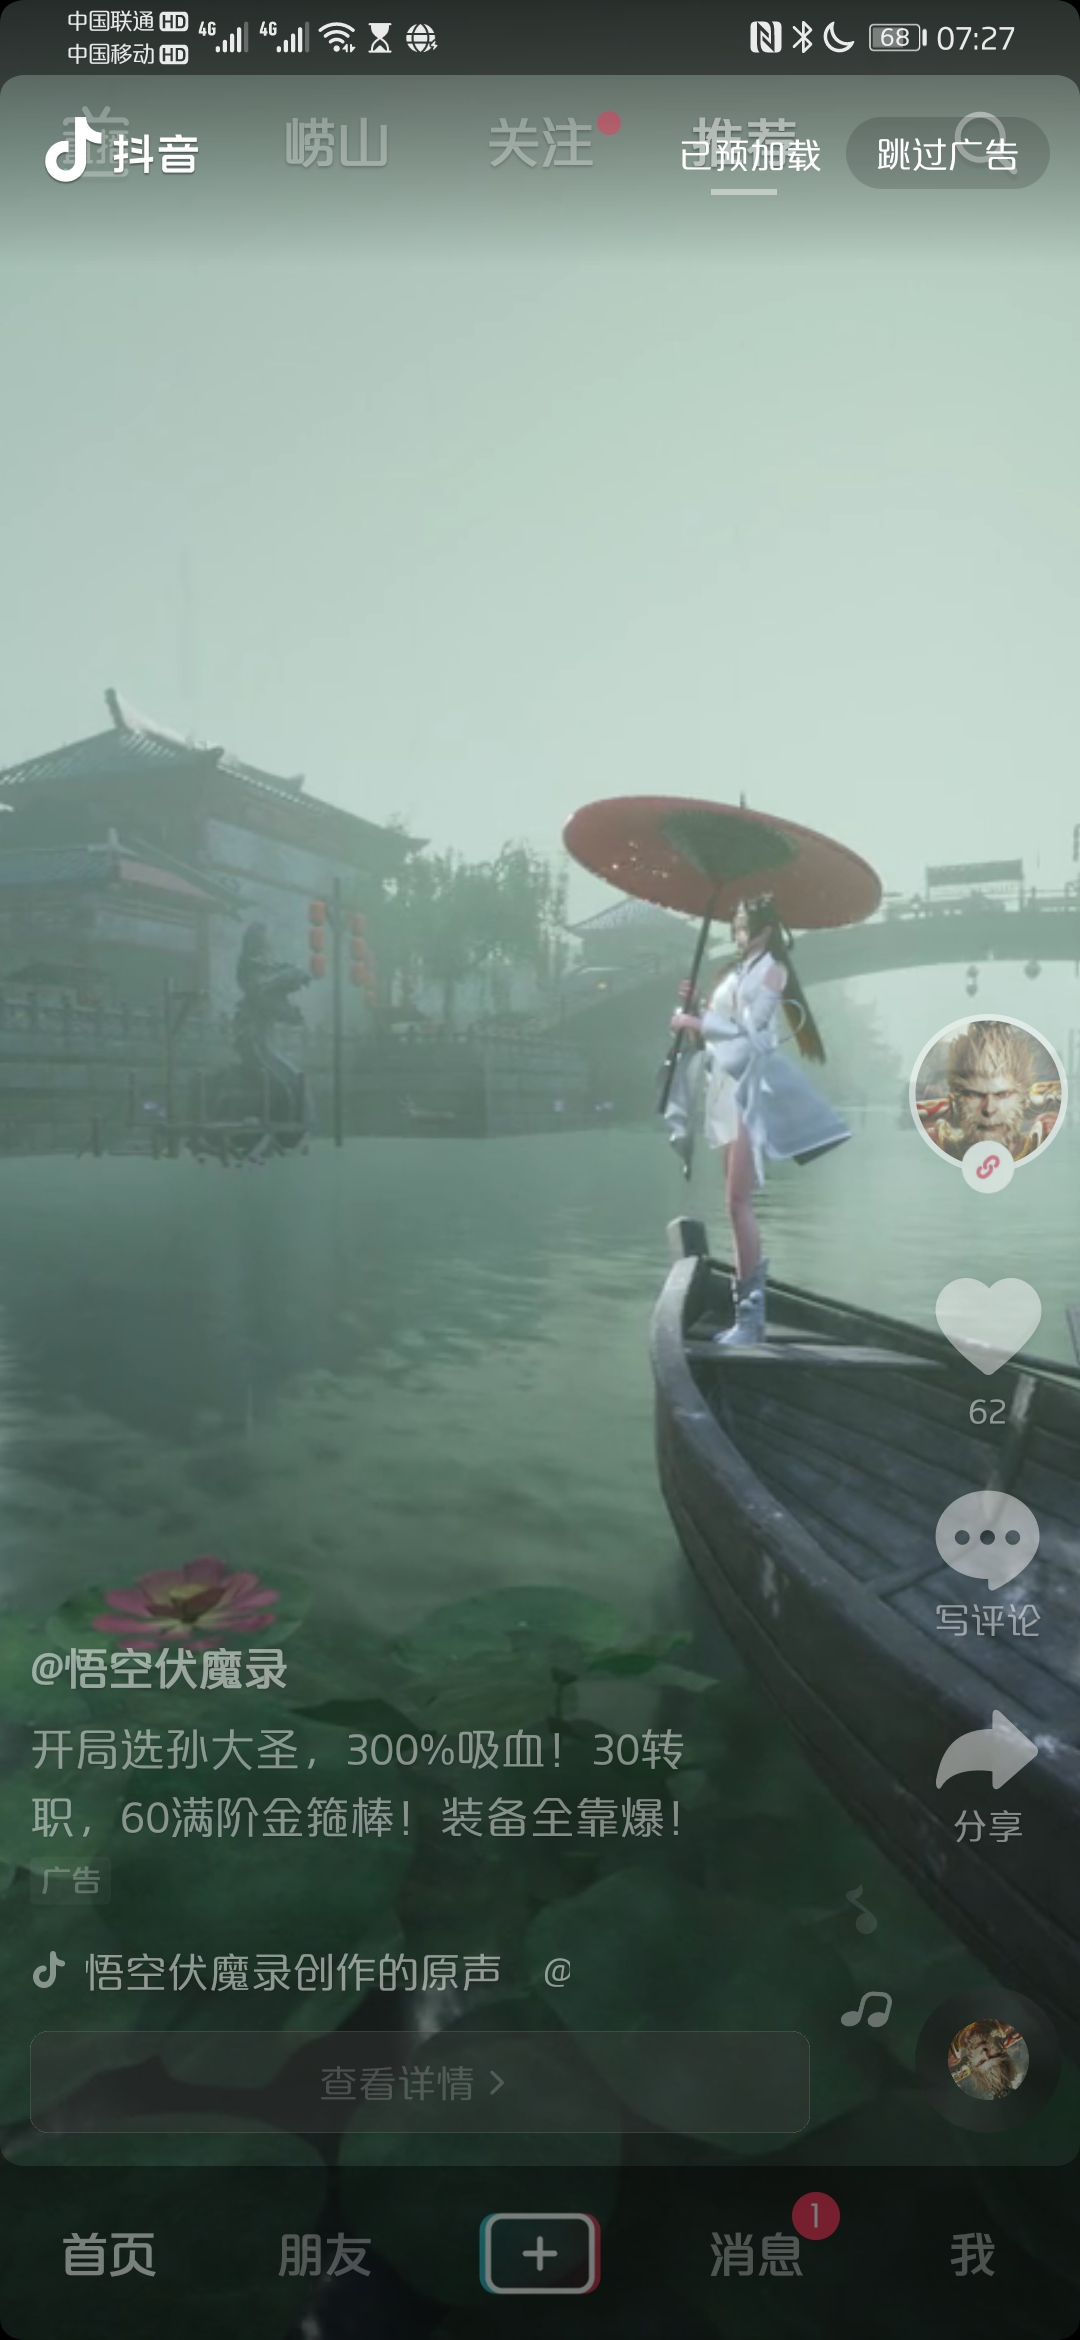skip: (861, 128, 1044, 190)
